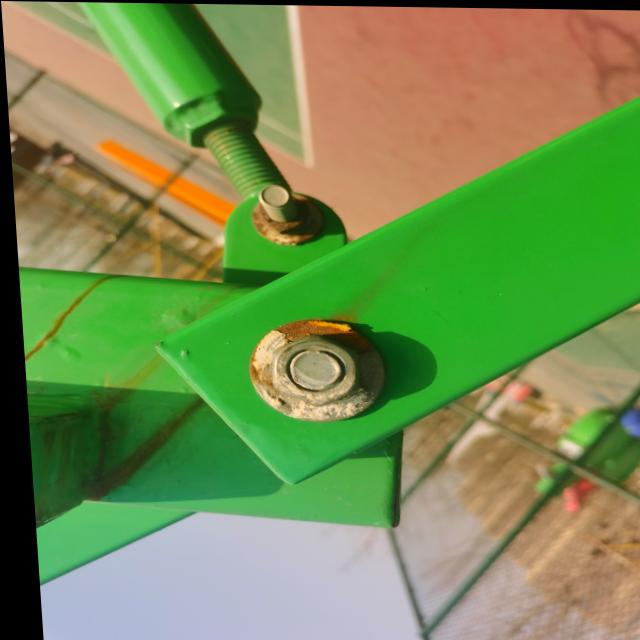Rusty bolt: (249, 322, 382, 416), (254, 193, 311, 235)
